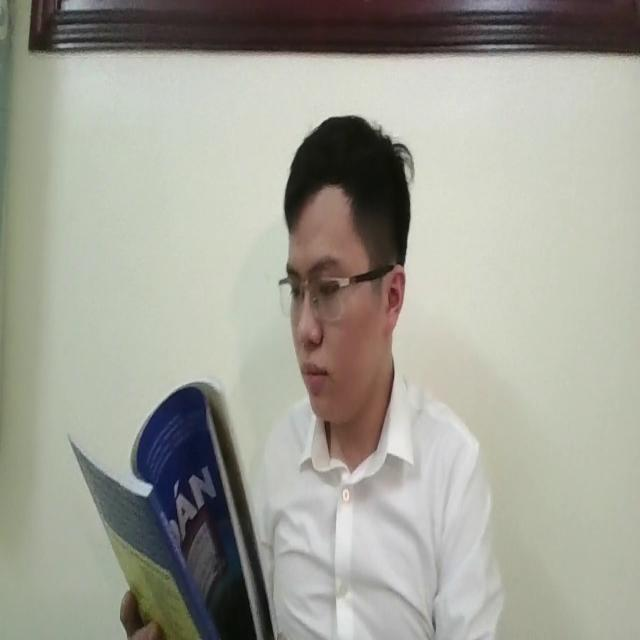book: (60, 375, 278, 640)
student: (236, 111, 506, 640)
